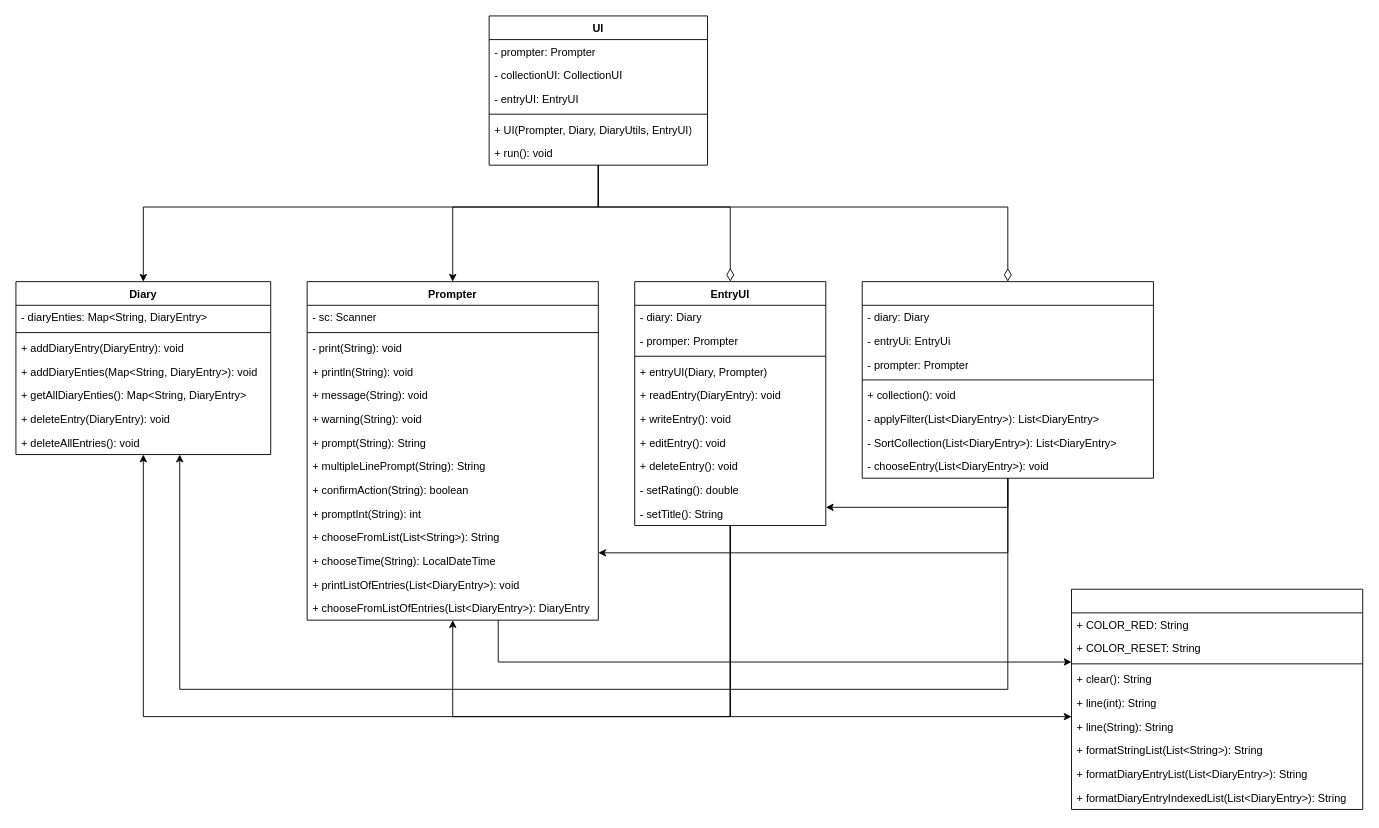
This 1379x828 diagram has some shape labels left out. Each missing label, with the box of its shape:
CollectionUI: (861, 281, 1153, 478)
Formatter: (1071, 588, 1363, 809)
